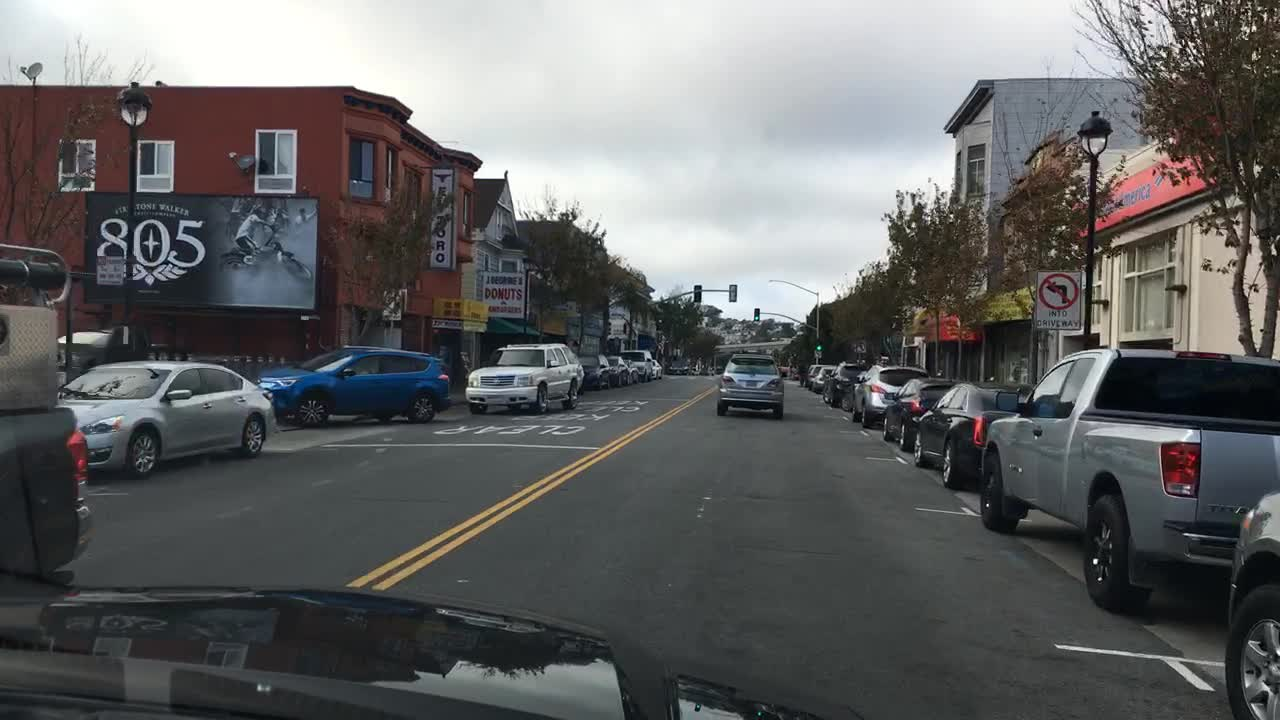car: (56, 359, 275, 487), (255, 346, 451, 435), (1218, 471, 1278, 717), (910, 380, 1037, 492), (463, 343, 584, 416), (878, 377, 960, 455), (849, 360, 927, 432), (714, 350, 784, 419), (839, 360, 887, 412), (821, 359, 867, 408), (575, 352, 614, 392), (619, 348, 652, 382), (808, 366, 838, 395), (606, 355, 630, 388), (796, 362, 824, 389), (667, 361, 690, 376), (649, 360, 663, 379), (701, 366, 714, 377), (691, 365, 702, 376), (716, 365, 725, 373)
traffic light: (729, 283, 738, 302), (694, 284, 702, 303), (814, 339, 822, 354), (753, 308, 760, 322)
traffic sign: (1035, 269, 1082, 329), (94, 255, 125, 284), (382, 288, 401, 319)
truck: (975, 345, 1277, 618), (0, 241, 92, 580)
